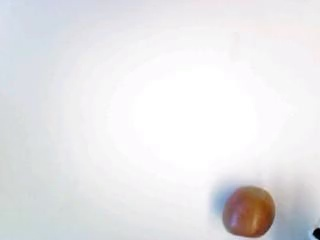apple: (225, 184, 274, 238)
